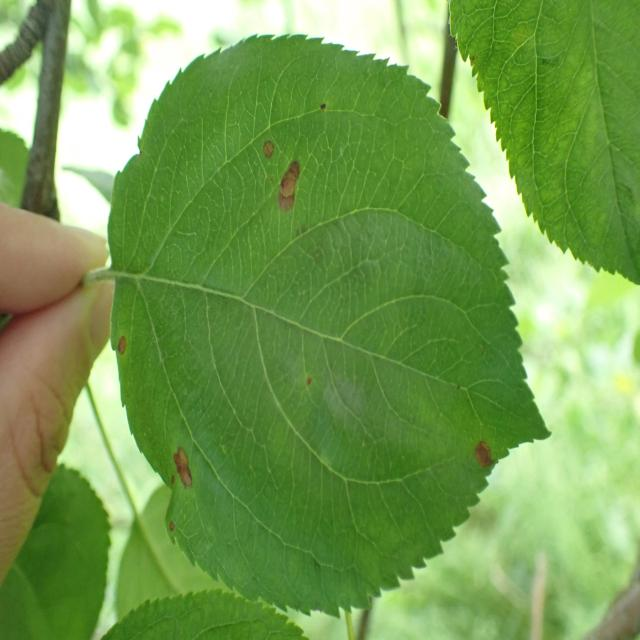Black Rot: (274, 152, 310, 233), (165, 436, 206, 498), (471, 408, 498, 497), (112, 319, 129, 383), (258, 130, 284, 168)
